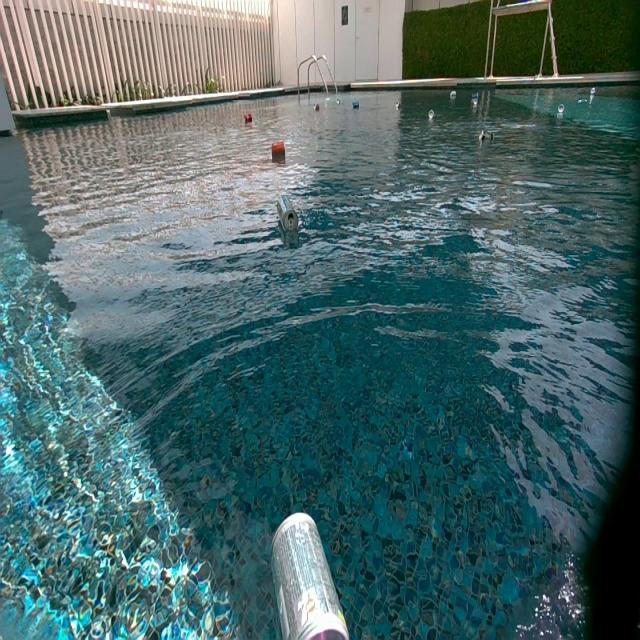Cans: (270, 511, 350, 637), (277, 197, 298, 234), (480, 130, 494, 146), (272, 141, 286, 155), (244, 112, 253, 123), (450, 92, 458, 102), (427, 109, 434, 120), (352, 101, 360, 110), (470, 95, 478, 104), (558, 104, 565, 114), (591, 88, 598, 97), (314, 103, 320, 112), (395, 101, 400, 109), (337, 100, 342, 106)
